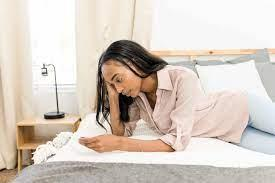Persons: (92, 35, 164, 111)
